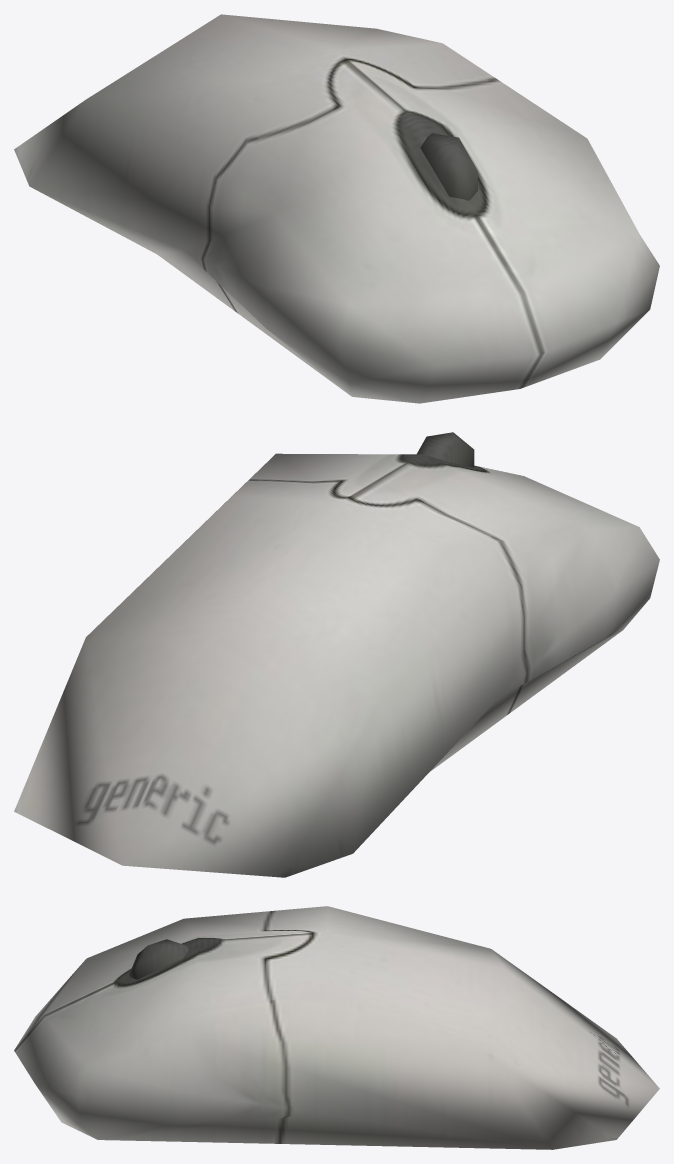
Rendered from Mouse_lod3.fbx.
3 views of the same model, one above another, from view 1: azimuth 30°, elevation 25°; view 2: azimuth 150°, elevation 25°; view 3: azimuth 270°, elevation 25° (orthographic). The views are drawn at different scales.
Visible parts, largest first — view 1: Mouse, Mouse_Wheel; view 2: Mouse, Mouse_Wheel; view 3: Mouse, Mouse_Wheel.
Boxes of the visible parts, left/top/right/bottom form: Mouse: left=14, top=14, right=659, bottom=403; Mouse_Wheel: left=420, top=133, right=477, bottom=200; Mouse: left=14, top=453, right=659, bottom=877; Mouse_Wheel: left=417, top=432, right=474, bottom=467; Mouse: left=14, top=906, right=659, bottom=1149; Mouse_Wheel: left=129, top=939, right=188, bottom=979.
Size of the model in its own units: 1.14 by 0.6257 by 2.34.
